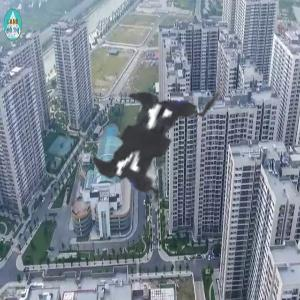drone: (19, 9, 292, 282)
